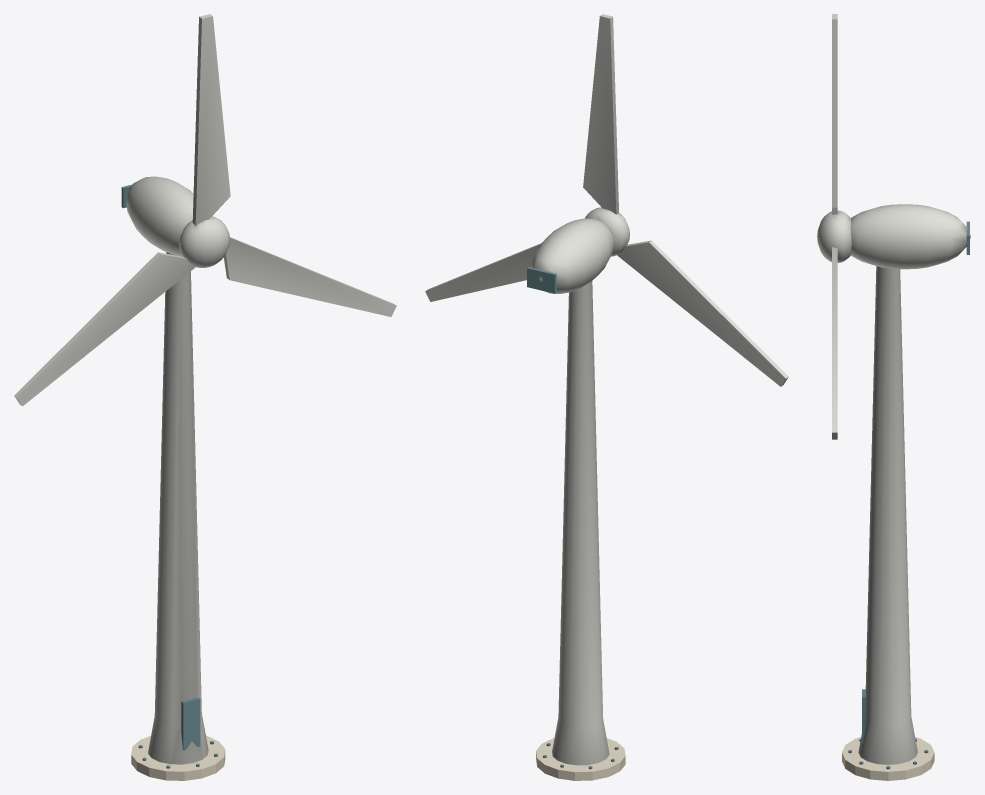
Rendered from turbine.glb.
The picture shows the model from 3 angles, left to right: view 1: azimuth 30°, elevation 25°; view 2: azimuth 150°, elevation 25°; view 3: azimuth 270°, elevation 25°; orthographic projection. The views are drawn at different scales.
Visible parts, largest first — view 1: tapered turbine, turbine foundation, tower access door; view 2: tapered turbine, turbine foundation, tower access door; view 3: tapered turbine, turbine foundation, tower access door.
Part boxes in pixels (x1=…): tapered turbine: x1=14, y1=14, x2=396, y2=764; turbine foundation: x1=131, y1=735, x2=225, y2=780; tower access door: x1=121, y1=184, x2=217, y2=768; tapered turbine: x1=425, y1=14, x2=788, y2=765; turbine foundation: x1=536, y1=738, x2=625, y2=780; tower access door: x1=527, y1=267, x2=618, y2=769; tapered turbine: x1=817, y1=14, x2=970, y2=764; turbine foundation: x1=842, y1=737, x2=934, y2=780; tower access door: x1=848, y1=221, x2=969, y2=769.
Bounding box in the file's own units: 2.58 × 4.97 × 0.93.
